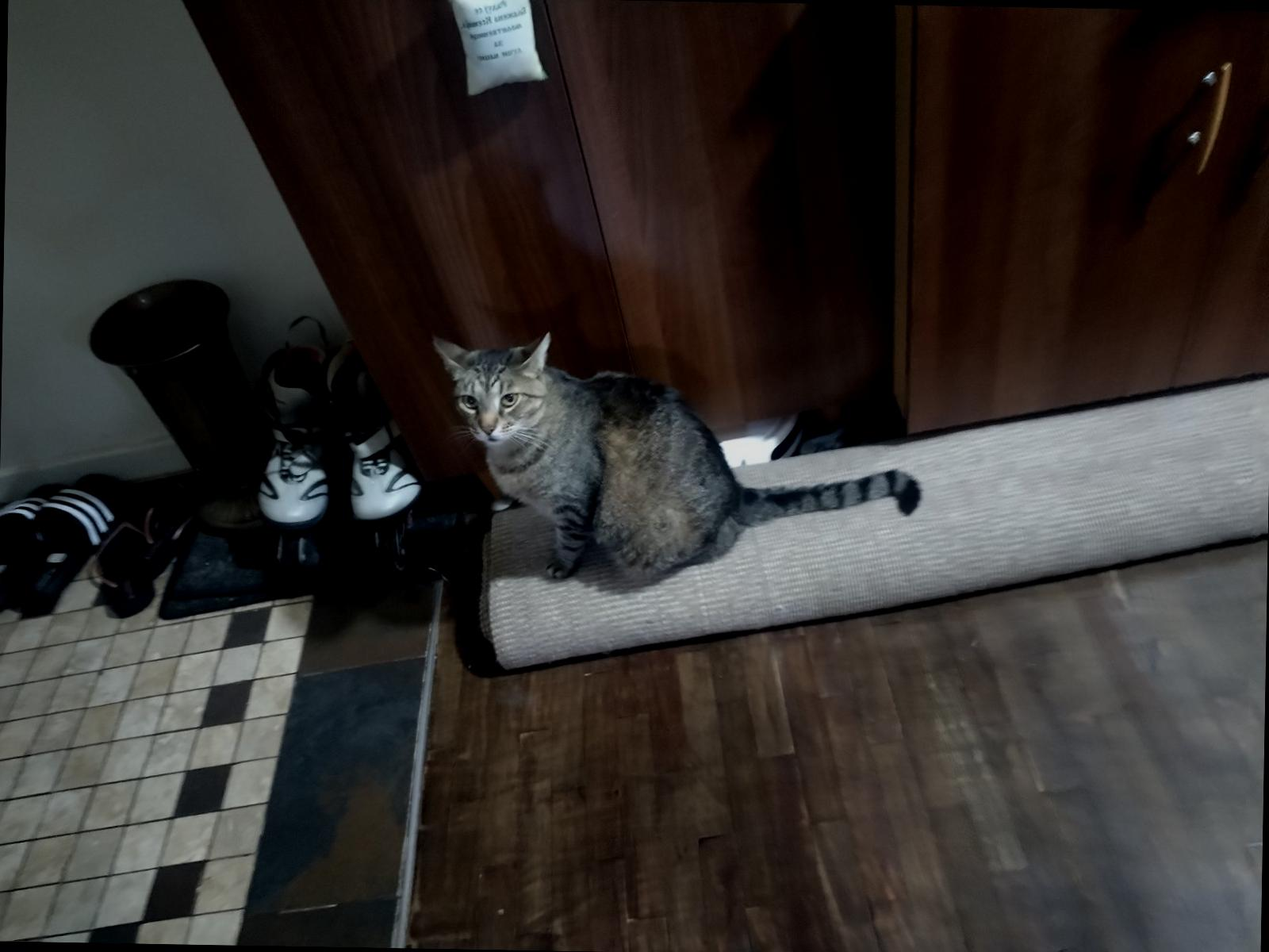macka: (423, 321, 922, 593)
